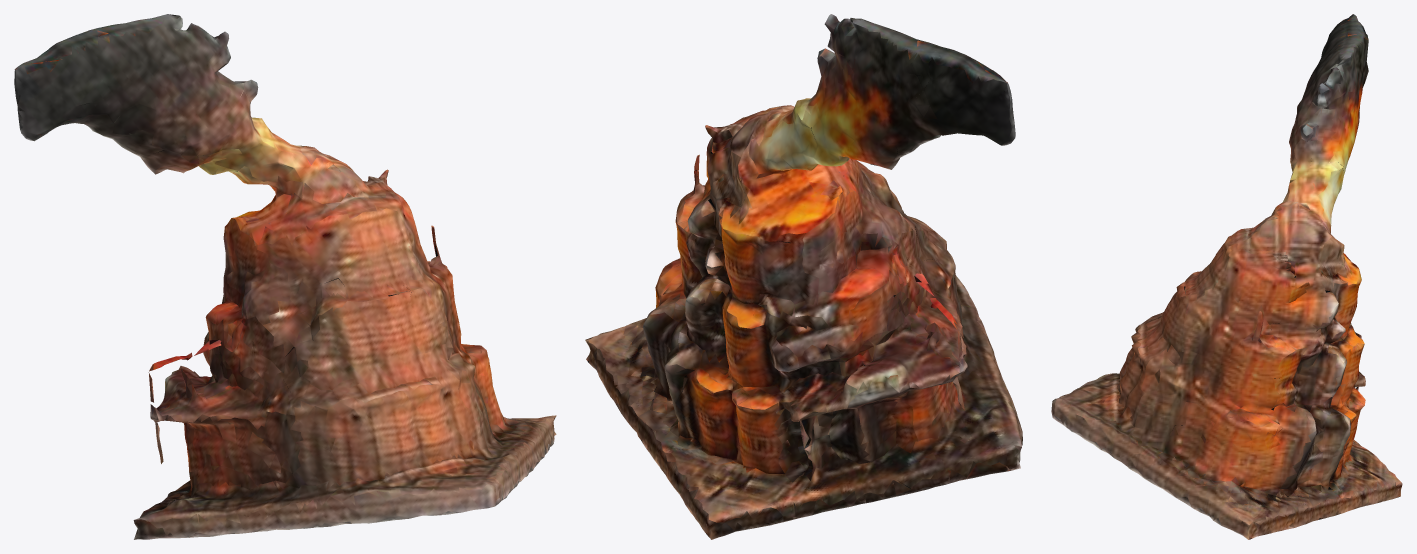
Rendered from vorash_purifier.glb.
3 views of the same model, side by side, from view 1: azimuth 30°, elevation 25°; view 2: azimuth 150°, elevation 25°; view 3: azimuth 270°, elevation 25° (orthographic). The views are drawn at different scales.
Parts seen in each view (by area): view 1: geometry_0; view 2: geometry_0; view 3: geometry_0.
Part boxes in pixels (left/top/right/bottom): geometry_0: left=14, top=14, right=556, bottom=539; geometry_0: left=585, top=14, right=1022, bottom=539; geometry_0: left=1051, top=14, right=1402, bottom=539.
Bounding box in the file's own units: 0.8365 × 0.8446 × 0.6732.
Materials: 1 (1 with a texture image).
